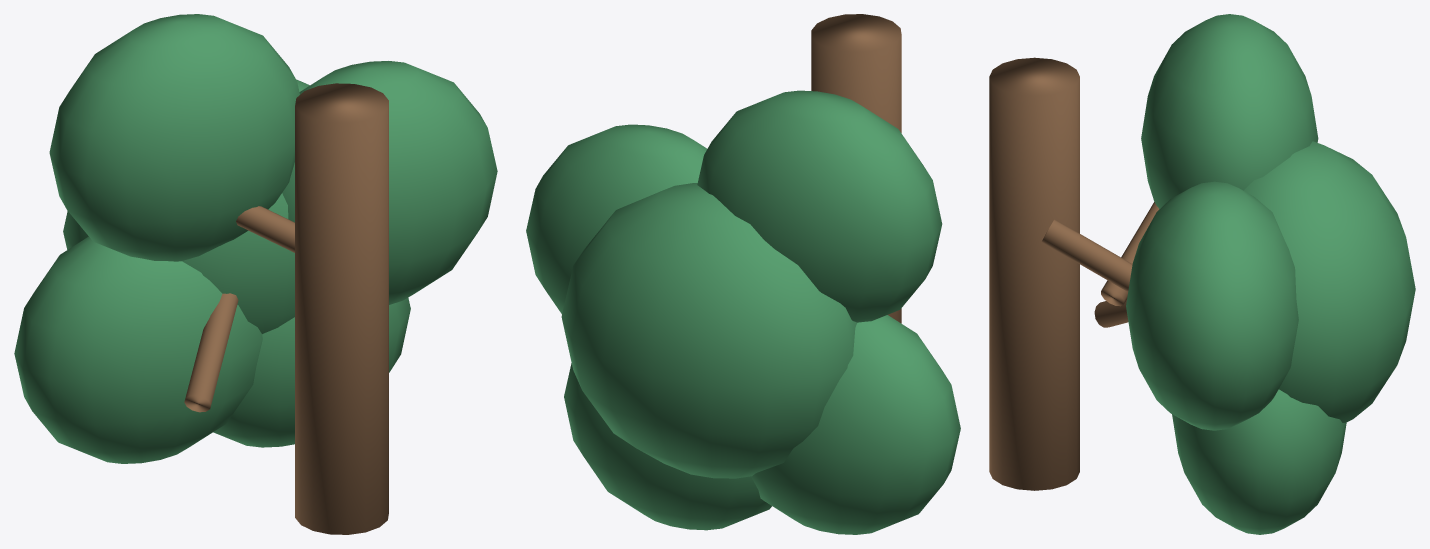
Rendered from prop_tree_final.glb.
The picture shows the model from 3 angles, left to right: view 1: azimuth 30°, elevation 25°; view 2: azimuth 150°, elevation 25°; view 3: azimuth 270°, elevation 25°; orthographic projection. The views are drawn at different scales.
Visible parts, largest first — view 1: leaf_cluster_1, gnarled_main_trunk, leaf_cluster_2, leaf_cluster_0, top_leaf_cluster, leaf_cluster_3, branch_2, branch_1; view 2: top_leaf_cluster, leaf_cluster_1, leaf_cluster_2, leaf_cluster_0, leaf_cluster_3, gnarled_main_trunk; view 3: gnarled_main_trunk, leaf_cluster_0, top_leaf_cluster, leaf_cluster_1, leaf_cluster_3, branch_0, branch_1, branch_2.
Part boxes in pixels (left/top/right/bottom): leaf_cluster_1: left=49, top=14, right=299, bottom=261; gnarled_main_trunk: left=295, top=83, right=388, bottom=534; leaf_cluster_2: left=14, top=236, right=262, bottom=463; leaf_cluster_0: left=282, top=61, right=497, bottom=304; top_leaf_cluster: left=63, top=79, right=309, bottom=333; leaf_cluster_3: left=213, top=298, right=410, bottom=447; branch_2: left=184, top=293, right=238, bottom=412; branch_1: left=236, top=206, right=294, bottom=252; top_leaf_cluster: left=561, top=183, right=856, bottom=478; leaf_cluster_1: left=697, top=90, right=942, bottom=322; leaf_cluster_2: left=751, top=315, right=960, bottom=534; leaf_cluster_0: left=526, top=124, right=707, bottom=313; leaf_cluster_3: left=564, top=363, right=771, bottom=530; gnarled_main_trunk: left=811, top=14, right=901, bottom=323; gnarled_main_trunk: left=989, top=57, right=1079, bottom=490; leaf_cluster_0: left=1126, top=181, right=1298, bottom=430; top_leaf_cluster: left=1243, top=141, right=1415, bottom=422; leaf_cluster_1: left=1141, top=14, right=1318, bottom=208; leaf_cluster_3: left=1172, top=389, right=1346, bottom=534; branch_0: left=1041, top=219, right=1132, bottom=291; branch_1: left=1101, top=202, right=1159, bottom=306; branch_2: left=1094, top=300, right=1128, bottom=327.
Size of the model in its own units: 2.63 by 2.56 by 2.25.
